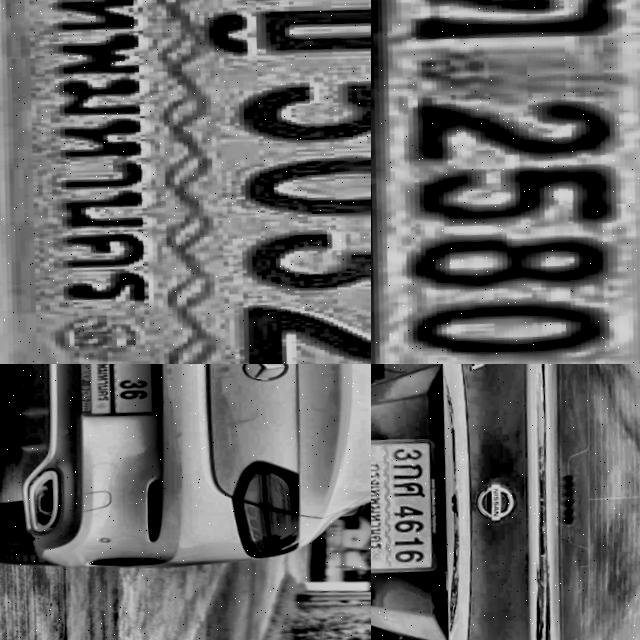license-plate: (0, 0, 371, 364), (371, 0, 640, 364), (371, 437, 443, 582), (61, 364, 161, 426)
